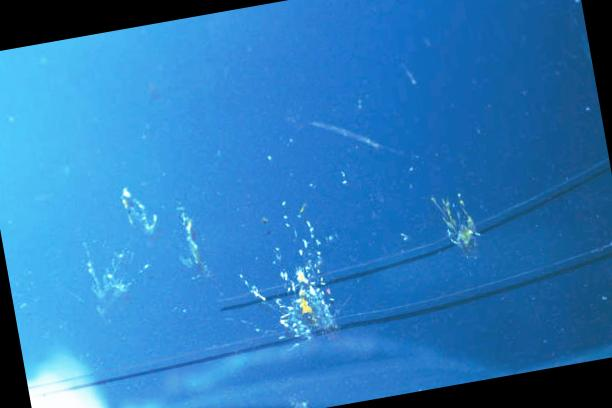Bird Poop: (244, 203, 336, 338), (83, 243, 134, 316), (431, 196, 479, 252), (307, 122, 381, 147), (121, 189, 157, 234), (181, 214, 205, 273), (290, 401, 310, 408)
